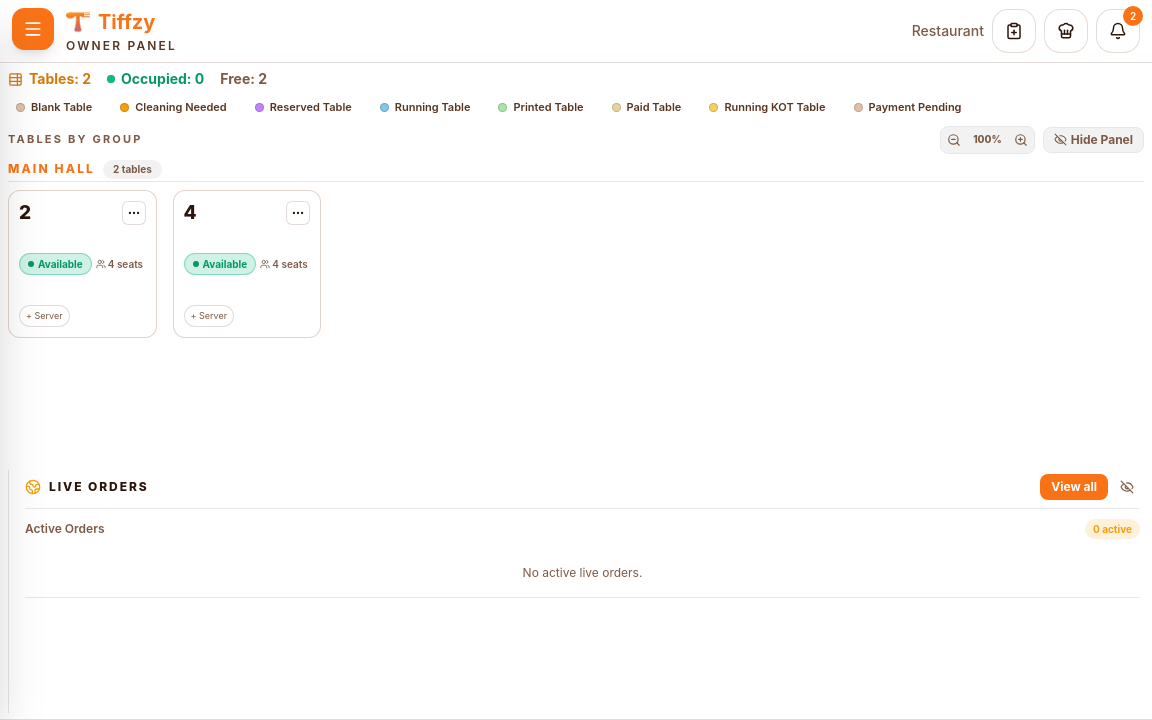
Scenario: Table Server Assignment Filtering — Authoritative Designation Verification › 2. OwnerLayout '+ Server' Popover Component Verification › works consistently for other tables (e.g., Table 4)
Click the 2nd button titled "Assign server for Table 4" at coordinates (209, 316), box [184, 305, 234, 327]
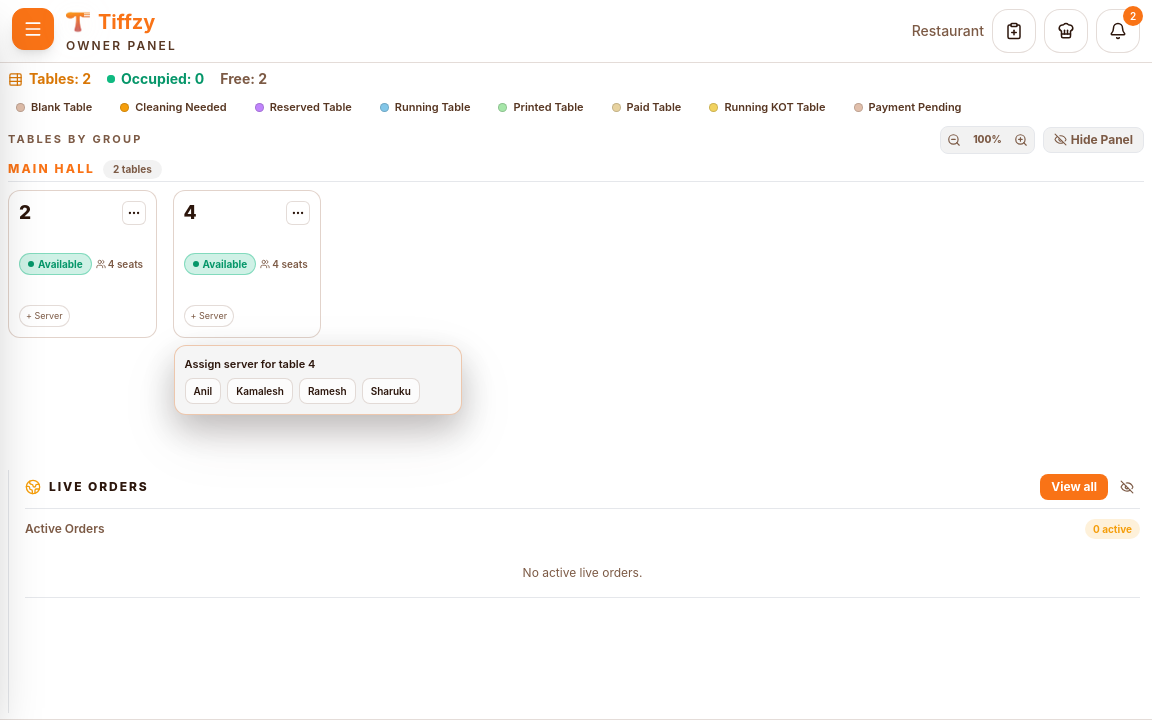
Check: the text "Assign server for table 4" is shown, box [185, 357, 315, 371]
Check: the button "Kamalesh" is shown, box [227, 378, 293, 404]
Check: the button "Sharuku" is shown, box [362, 378, 420, 404]
